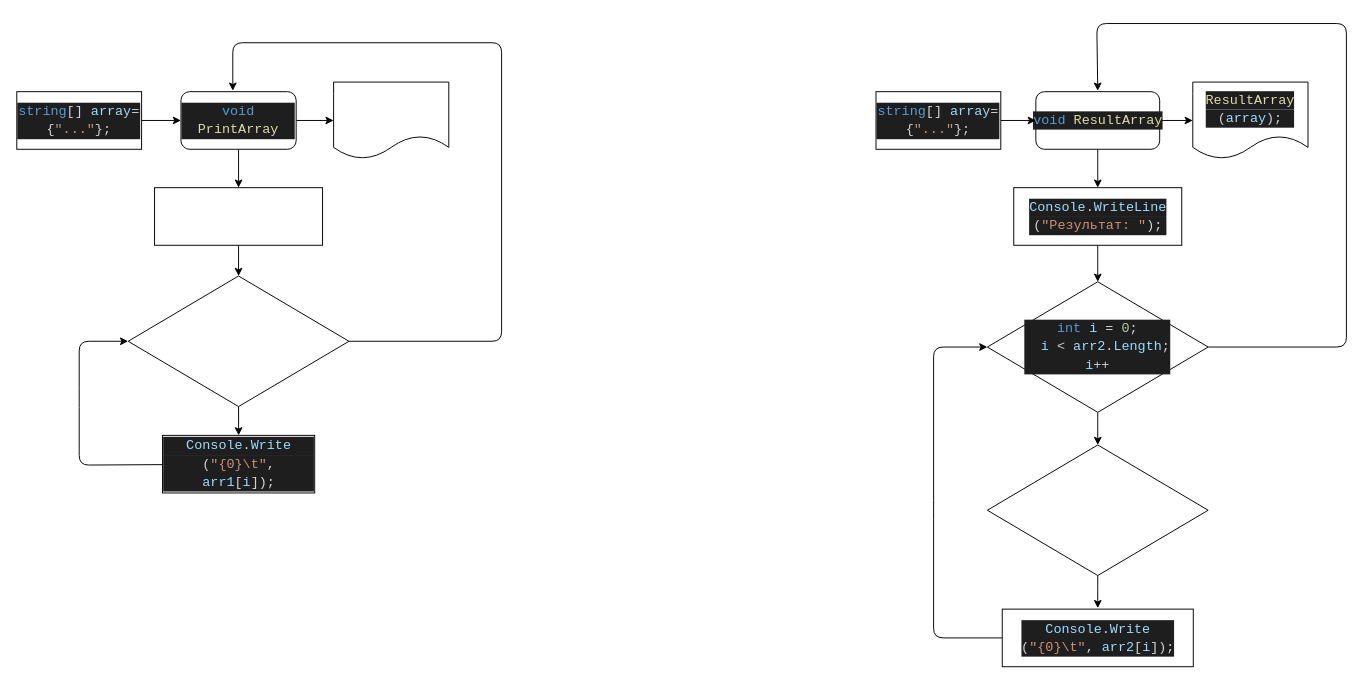
Image size: 1371x684. Some labels were removed from this diagram. The shapes that lost their labels are listed below. From the top down, each one's centre as x and y in pixels, then its label:
point 391,120: PrintArray ( array );
point 238,216: Console . WriteLine ( "Исходный массив: " );
point 238,341: int i = 0 ; i < arr1 . Length ; i ++
point 1097,510: arr2 [ i ]. Length <= 3
